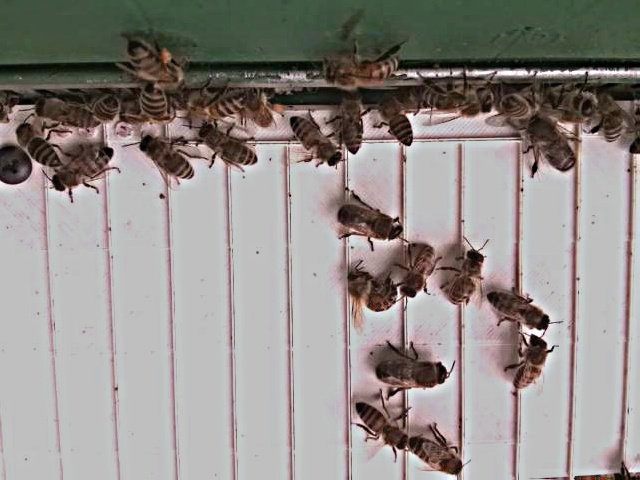Drone: (372, 350, 455, 395), (526, 115, 581, 178), (333, 200, 407, 246)
Worker: (49, 143, 120, 200), (503, 333, 560, 393), (353, 399, 413, 456), (196, 121, 264, 171), (488, 287, 553, 336), (138, 134, 198, 185), (406, 431, 469, 479), (288, 117, 345, 170), (446, 247, 489, 309), (321, 56, 403, 88), (398, 243, 440, 303), (16, 124, 66, 172), (35, 98, 101, 132), (344, 277, 400, 315), (379, 93, 416, 150), (336, 94, 368, 159), (185, 89, 252, 119), (136, 82, 173, 126)
